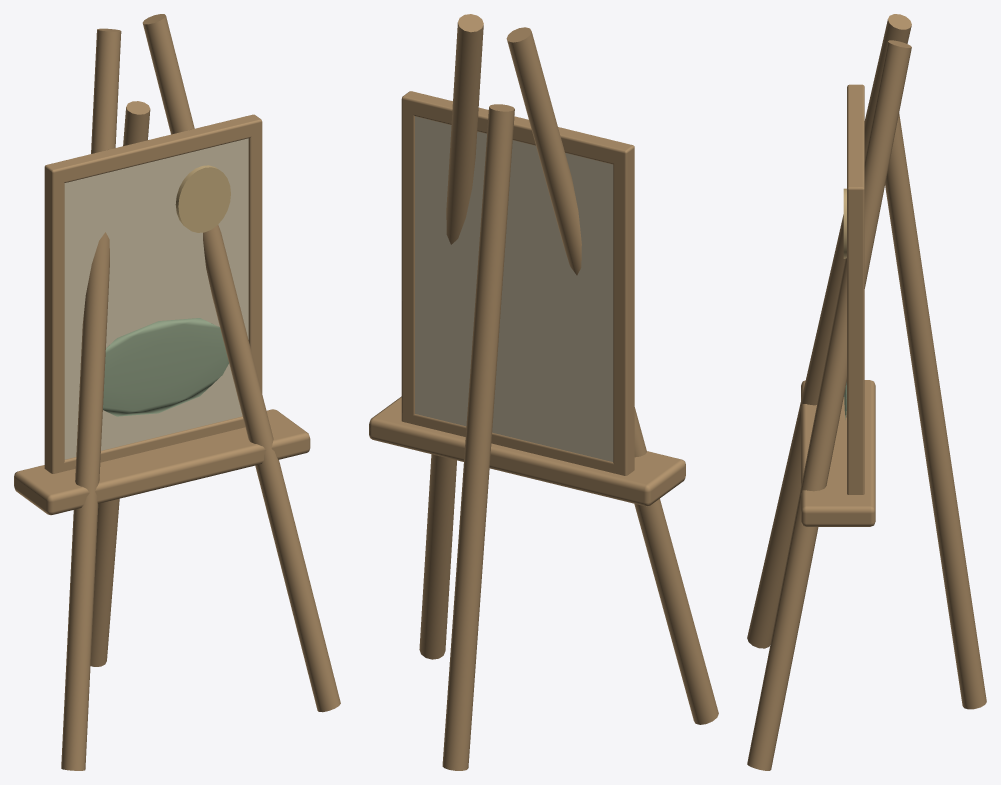
File: easel.glb
3 views of the same model, side by side, from view 1: azimuth 30°, elevation 25°; view 2: azimuth 150°, elevation 25°; view 3: azimuth 270°, elevation 25° (orthographic). The views are drawn at different scales.
Parts seen in each view (by area): view 1: canvas-stretcher-inset, front-leg--1, front-leg-1, receiving-canvas-ledge, painted-hills, canvas-stretcher-stile--1, canvas-stretcher-rail-1, rear-strut, canvas-stretcher-stile-1, painted-sun, canvas-stretcher-rail--1; view 2: canvas-stretcher-inset, rear-strut, front-leg--1, front-leg-1, receiving-canvas-ledge, canvas-stretcher-stile--1, canvas-stretcher-stile-1, canvas-stretcher-rail-1, canvas-stretcher-rail--1; view 3: front-leg-1, rear-strut, front-leg--1, receiving-canvas-ledge, canvas-stretcher-stile-1, canvas-stretcher-rail-1.
Part boxes in pixels (box(x1,y1,x2,y2)): canvas-stretcher-inset: box(64, 138, 248, 459); front-leg--1: box(61, 28, 121, 770); front-leg-1: box(142, 14, 340, 712); receiving-canvas-ledge: box(14, 409, 310, 515); painted-hills: box(103, 318, 228, 416); canvas-stretcher-stile--1: box(44, 162, 64, 473); canvas-stretcher-rail-1: box(44, 114, 262, 183); rear-strut: box(90, 101, 150, 666); canvas-stretcher-stile-1: box(244, 114, 262, 393); painted-sun: box(175, 165, 230, 232); canvas-stretcher-rail--1: box(44, 416, 245, 473); canvas-stretcher-inset: box(415, 116, 613, 461); rear-strut: box(442, 104, 514, 770); front-leg--1: box(506, 27, 718, 724); front-leg-1: box(419, 14, 483, 659); receiving-canvas-ledge: box(369, 396, 685, 506); canvas-stretcher-stile--1: box(613, 142, 634, 475); canvas-stretcher-stile-1: box(401, 91, 420, 423); canvas-stretcher-rail-1: box(401, 91, 634, 165); canvas-stretcher-rail--1: box(401, 413, 634, 475); front-leg-1: box(747, 40, 911, 770); rear-strut: box(885, 113, 986, 709); front-leg--1: box(747, 14, 911, 648); receiving-canvas-ledge: box(801, 380, 875, 526); canvas-stretcher-stile-1: box(847, 182, 864, 494); canvas-stretcher-rail-1: box(847, 85, 864, 201).
Size of the model in its own units: 0.735 by 1.7 by 0.545.
